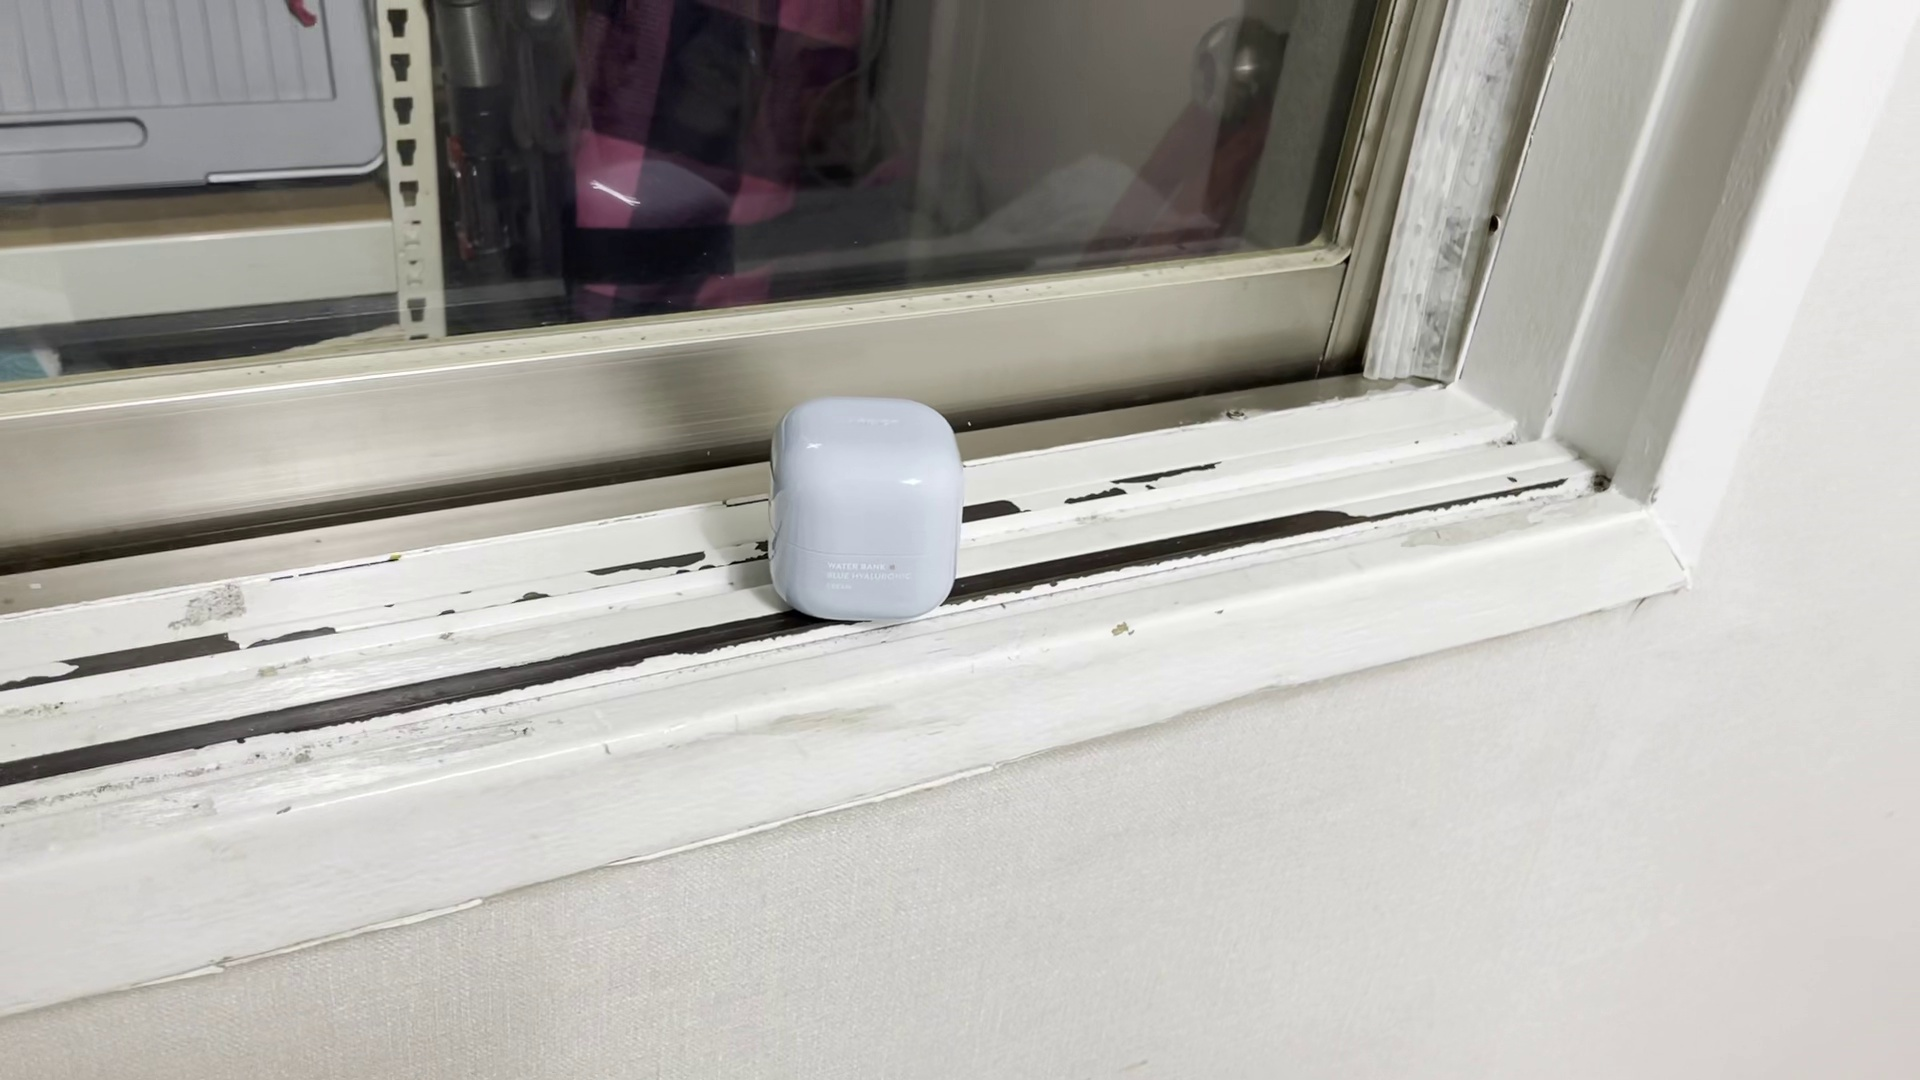cream: (769, 400, 959, 622)
